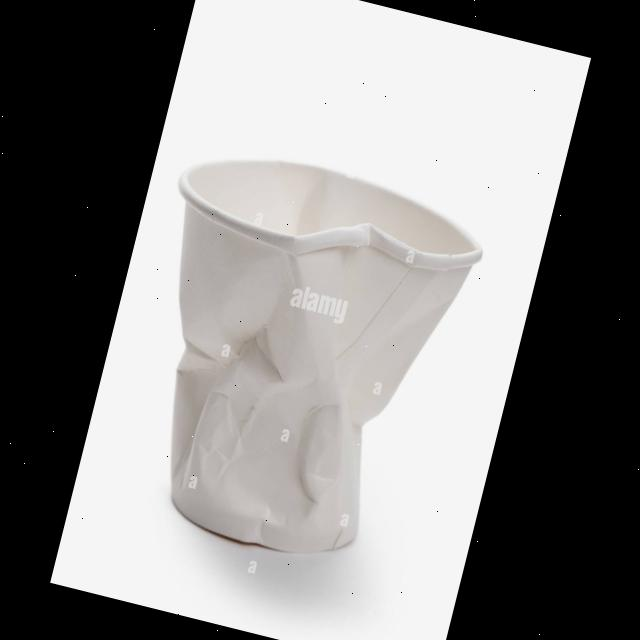trash: (92, 128, 492, 587)
